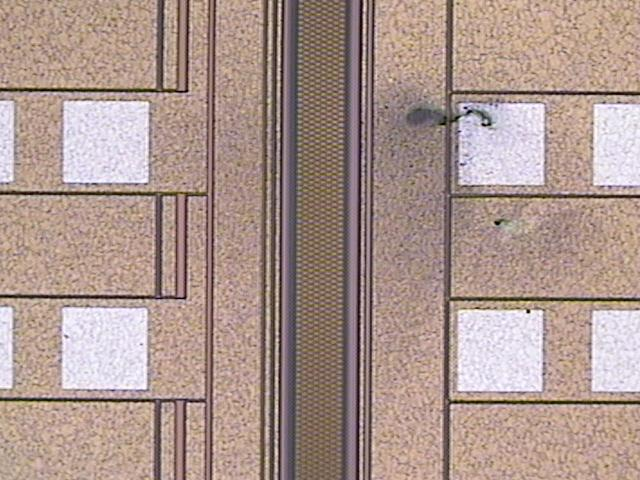PO CONTAMINATION: (173, 41, 639, 369)
